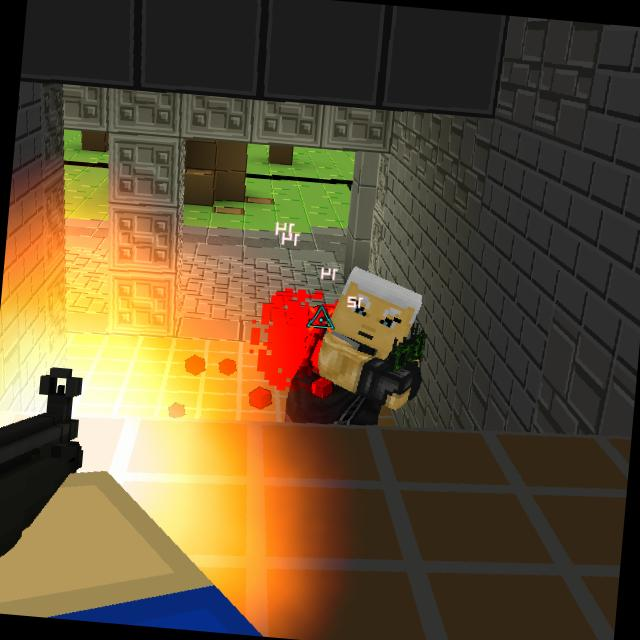enemy: (280, 255, 430, 434)
